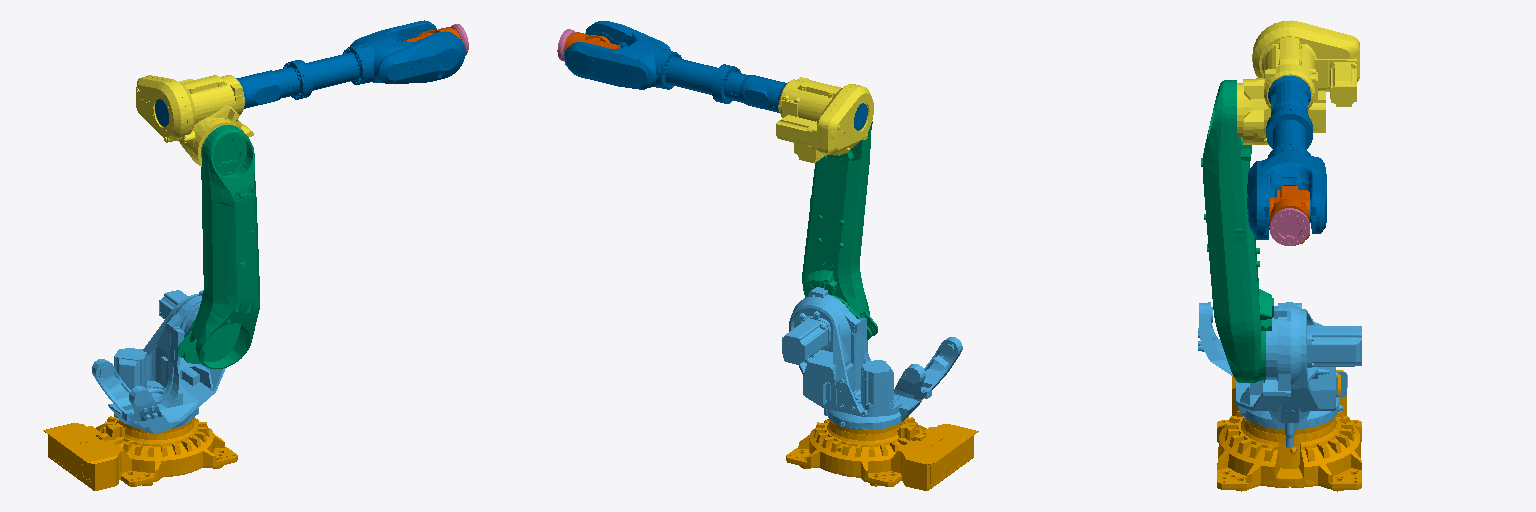
The robot description file, URDF, robot "ABBIRB6700150320":
<?xml version="1.0" ?>
<robot a1="0.320" a2="-0.200" acceleration_factor="2" b="0.0" c1="0.780" c2="1.280" c3="1.5925" c4="0.200" control_rate="250" display_name="ABB IRB6700 150/320" ik="analytic" jerk_factor="64" name="ABBIRB6700150320" offsets2="-M_PI / 2">
  <!-- link list -->
  <link name="base_link">
    <collision name="collision">
      <geometry>
        <mesh filename="meshes/collision/base_link.obj"/>
      </geometry>
      <material name="grey">
        <color rgba="0.7 0.7 0.7 1"/>
      </material>
    </collision>
    <visual name="visual">
      <geometry>
        <mesh filename="meshes/visual/base_link.obj"/>
      </geometry>
    </visual>
  </link>
  <link name="link_1">
    <collision name="collision">
      <geometry>
        <mesh filename="meshes/collision/link_1.obj"/>
      </geometry>
      <material name="grey">
        <color rgba="0.7 0.7 0.7 1"/>
      </material>
    </collision>
    <visual name="visual">
      <geometry>
        <mesh filename="meshes/visual/link_1.obj"/>
      </geometry>
    </visual>
  </link>
  <link name="link_2">
    <collision name="collision">
      <geometry>
        <mesh filename="meshes/collision/link_2.obj"/>
      </geometry>
      <material name="grey">
        <color rgba="0.7 0.7 0.7 1"/>
      </material>
    </collision>
    <visual name="visual">
      <geometry>
        <mesh filename="meshes/visual/link_2.obj"/>
      </geometry>
    </visual>
  </link>
  <link name="link_3">
    <collision name="collision">
      <geometry>
        <mesh filename="meshes/collision/link_3.obj"/>
      </geometry>
      <material name="grey">
        <color rgba="0.7 0.7 0.7 1"/>
      </material>
    </collision>
    <visual name="visual">
      <geometry>
        <mesh filename="meshes/visual/link_3.obj"/>
      </geometry>
    </visual>
  </link>
  <link name="link_4">
    <collision name="collision">
      <geometry>
        <mesh filename="meshes/collision/link_4.obj"/>
      </geometry>
      <material name="grey">
        <color rgba="0.7 0.7 0.7 1"/>
      </material>
    </collision>
    <visual name="visual">
      <geometry>
        <mesh filename="meshes/visual/link_4.obj"/>
      </geometry>
    </visual>
  </link>
  <link name="link_5">
    <collision name="collision">
      <geometry>
        <mesh filename="meshes/collision/link_5.obj"/>
      </geometry>
      <material name="grey">
        <color rgba="0.7 0.7 0.7 1"/>
      </material>
    </collision>
    <visual name="visual">
      <geometry>
        <mesh filename="meshes/visual/link_5.obj"/>
      </geometry>
    </visual>
  </link>
  <link name="link_6">
    <collision name="collision">
      <geometry>
        <mesh filename="meshes/collision/link_6.obj"/>
      </geometry>
      <material name="grey">
        <color rgba="0.3 0.3 0.3 1"/>
      </material>
    </collision>
    <visual name="visual">
      <geometry>
        <mesh filename="meshes/visual/link_6.obj"/>
      </geometry>
    </visual>
  </link>
  <!-- end of link list -->
  <!-- joint list -->
  <joint name="joint_1" type="revolute">
    <origin rpy="0 0 0" xyz="0 0 0.780"/>
    <axis xyz="0 0 1"/>
    <parent link="base_link"/>
    <child link="link_1"/>
    <limit default="0" effort="0" lower="-2.9670597283903604" upper="2.9670597283903604" velocity="1.7453292519943295"/>
  </joint>
  <joint name="joint_2" type="revolute">
    <origin rpy="0 0 0" xyz="0.320 0 0"/>
    <axis xyz="0 1 0"/>
    <parent link="link_1"/>
    <child link="link_2"/>
    <limit default="0" effort="0" lower="-1.1344640137963142" upper="1.4835298641951802" velocity="1.5707963267948966"/>
  </joint>
  <joint name="joint_3" type="revolute">
    <origin rpy="0 0 0" xyz="0 0 1.280"/>
    <axis xyz="0 1 0"/>
    <parent link="link_2"/>
    <child link="link_3"/>
    <limit default="0" effort="0" lower="-3.141592653589793" upper="1.2217304763960306" velocity="1.5707963267948966"/>
  </joint>
  <joint name="joint_4" type="revolute">
    <origin rpy="0 0 0" xyz="0 0 0.200"/>
    <axis xyz="1 0 0"/>
    <parent link="link_3"/>
    <child link="link_4"/>
    <limit default="0" effort="0" lower="-5.235987755982989" upper="5.235987755982989" velocity="2.9670597283903604"/>
  </joint>
  <joint name="joint_5" type="revolute">
    <origin rpy="0 0 0" xyz="1.5925 0 0 "/>
    <axis xyz="0 1 0"/>
    <parent link="link_4"/>
    <child link="link_5"/>
    <limit default="0" effort="0" lower="-2.2689280275926285" upper="2.2689280275926285" velocity="2.0943951023931953"/>
  </joint>
  <joint name="joint_6" type="revolute">
    <origin rpy="0 0 0" xyz="0.200 0 0 "/>
    <axis xyz="1 0 0"/>
    <parent link="link_5"/>
    <child link="link_6"/>
    <limit default="0" effort="0" lower="-6.283185307179586" upper="6.283185307179586" velocity="3.3161255787892263"/>
  </joint>
  <!-- end of joint list -->
  <!-- ROS-Industrial 'flange' frame: attachment point for EEF models -->
  <link name="flange"/>
  <joint name="joint_6-flange" type="fixed">
    <origin rpy="0 1.5707963267948966 0" xyz="0 0 0"/>
    <parent link="link_6"/>
    <child link="flange"/>
  </joint>
</robot>

--- Render facts (derived) ---
Views: 3 orthographic renders of the robot side by side, from view 1: azimuth 30°, elevation 25°; view 2: azimuth 150°, elevation 25°; view 3: azimuth 270°, elevation 25°.
Robot: ABBIRB6700150320 — 8 links, 7 joints (6 revolute, 1 fixed); root link base_link; default pose: all joints at 0.
Links seen in each view (by area): view 1: link_2, link_1, link_4, base_link, link_3; view 2: link_1, base_link, link_4, link_2, link_3; view 3: link_2, link_1, base_link, link_3, link_4, link_6, link_5.
Link boxes in pixels (<box>): link_2: <box>177,125,259,368</box>; link_1: <box>92,290,225,433</box>; link_4: <box>155,20,465,126</box>; base_link: <box>43,413,237,490</box>; link_3: <box>136,75,253,166</box>; link_1: <box>782,287,962,429</box>; base_link: <box>786,416,978,490</box>; link_4: <box>564,21,867,130</box>; link_2: <box>802,121,877,339</box>; link_3: <box>776,77,873,162</box>; link_2: <box>1201,80,1273,382</box>; link_1: <box>1198,302,1361,447</box>; base_link: <box>1217,370,1361,491</box>; link_3: <box>1237,20,1359,144</box>; link_4: <box>1247,76,1326,239</box>; link_6: <box>1269,208,1309,245</box>; link_5: <box>1270,186,1309,243</box>.
Bounding box of the posed robot: 2.74 × 0.816 × 2.45 m (x, y, z).
Meshes: 7 distinct files referenced, 7 mesh visuals loaded (7 OBJ).